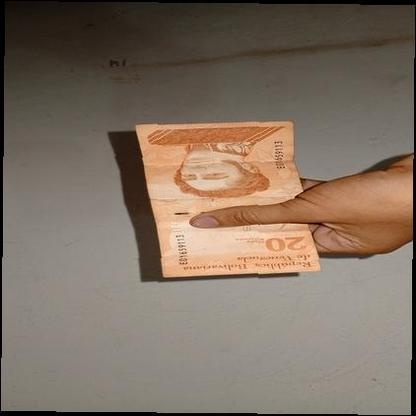twenty-front-vef: (135, 120, 320, 278)
